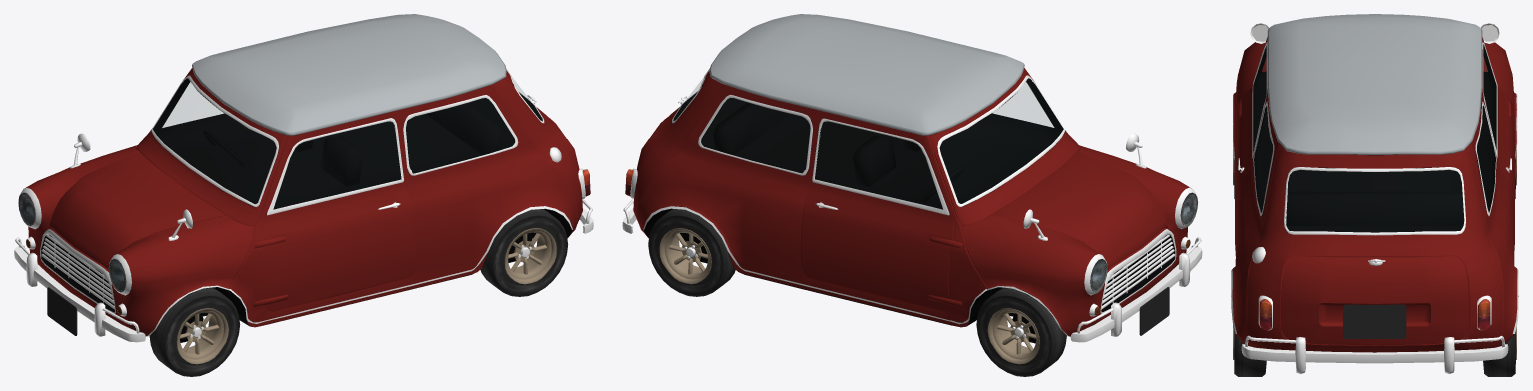
The model's file is car-transformed.glb.
3 views of the same model, side by side, from view 1: azimuth 30°, elevation 25°; view 2: azimuth 150°, elevation 25°; view 3: azimuth 270°, elevation 25° (orthographic). The views are drawn at different scales.
Visible parts, largest first — view 1: bumper_rear_ASTNMINI_CHROME_0, tier_ASTNMINI_tier_1t_0, glass_ASTNMINI_GLASS_0, backlights_glass_ASTNMINI_headlights_ucb_0; view 2: bumper_rear_ASTNMINI_CHROME_0, tier_ASTNMINI_tier_1t_0, glass_ASTNMINI_GLASS_0, backlights_glass_ASTNMINI_headlights_ucb_0; view 3: bumper_rear_ASTNMINI_CHROME_0, tier_ASTNMINI_tier_1t_0, backlights_glass_ASTNMINI_headlights_ucb_0.
Part boxes in pixels (x1,y1,x2,y2): bumper_rear_ASTNMINI_CHROME_0: (14, 14, 593, 364); tier_ASTNMINI_tier_1t_0: (149, 209, 568, 376); glass_ASTNMINI_GLASS_0: (162, 79, 531, 127); backlights_glass_ASTNMINI_headlights_ucb_0: (18, 169, 590, 314); bumper_rear_ASTNMINI_CHROME_0: (622, 14, 1202, 364); tier_ASTNMINI_tier_1t_0: (648, 209, 1066, 376); glass_ASTNMINI_GLASS_0: (684, 78, 1053, 127); backlights_glass_ASTNMINI_headlights_ucb_0: (625, 169, 1197, 314); bumper_rear_ASTNMINI_CHROME_0: (1231, 14, 1518, 374); tier_ASTNMINI_tier_1t_0: (1234, 156, 1515, 376); backlights_glass_ASTNMINI_headlights_ucb_0: (1260, 299, 1490, 330).
Bounding box in the file's own units: 120 × 52.66 × 56.29.
Materials: 4 (4 with a texture image).
